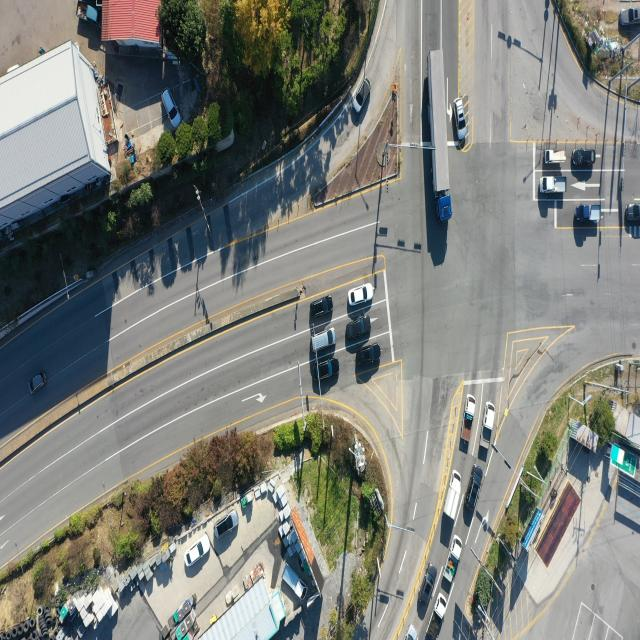car: (184, 536, 209, 568), (469, 466, 486, 511), (419, 565, 438, 605), (161, 91, 180, 131), (308, 329, 336, 355), (312, 358, 339, 382), (357, 342, 382, 367), (215, 511, 238, 538), (452, 100, 466, 144), (348, 282, 373, 306), (346, 319, 371, 343), (309, 297, 334, 320), (571, 148, 595, 167), (30, 373, 47, 396), (620, 7, 640, 25), (626, 203, 640, 222), (404, 625, 419, 640)
large_truck: (428, 47, 452, 222)
small_truck: (441, 469, 463, 523), (427, 594, 447, 640), (444, 536, 463, 584), (281, 565, 306, 600), (459, 395, 476, 446), (482, 402, 497, 451), (73, 0, 100, 27), (540, 176, 567, 195), (576, 204, 602, 223), (546, 149, 568, 163)
